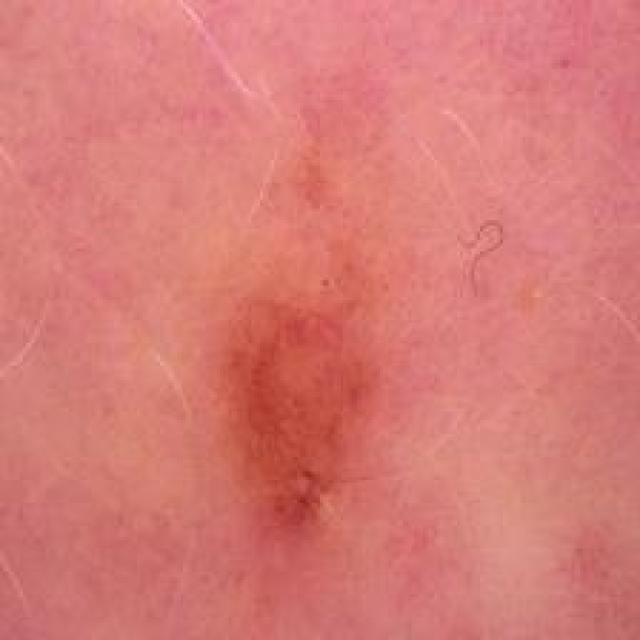Cancer: (192, 172, 386, 568)
